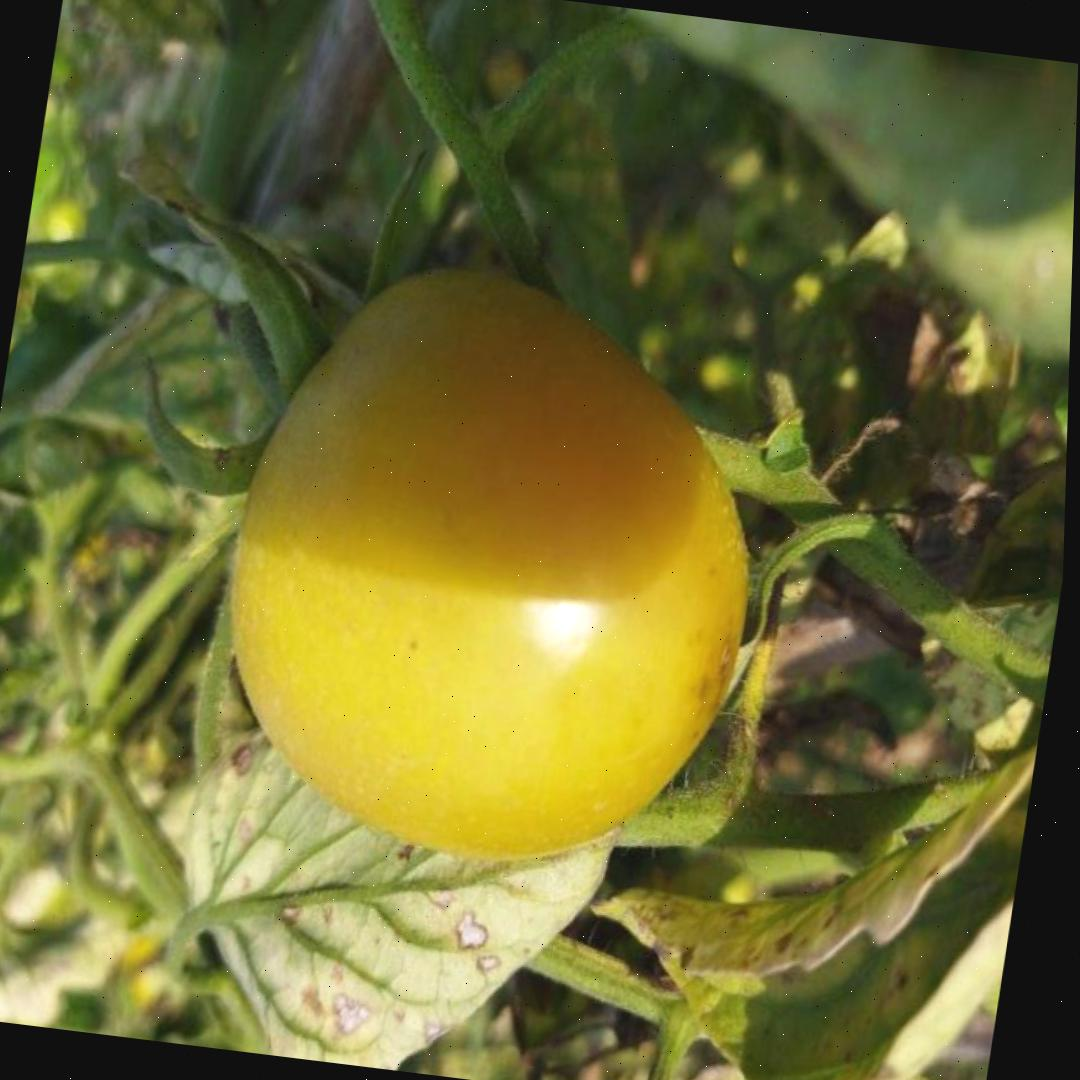setengah_matang: (186, 247, 797, 892)
